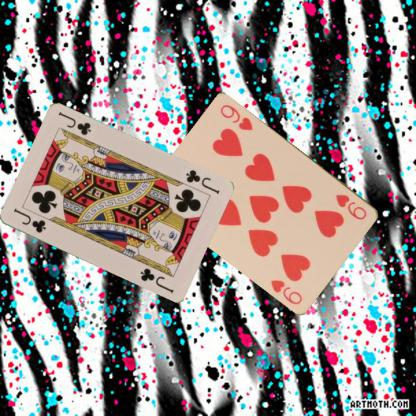9h: (333, 192, 368, 222)
Jc: (9, 206, 47, 235), (182, 167, 220, 196)
